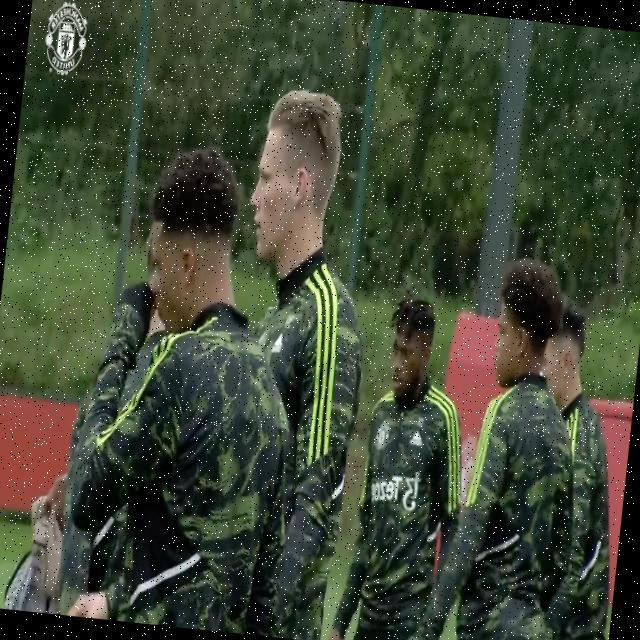Adidas: (270, 330, 285, 355)
